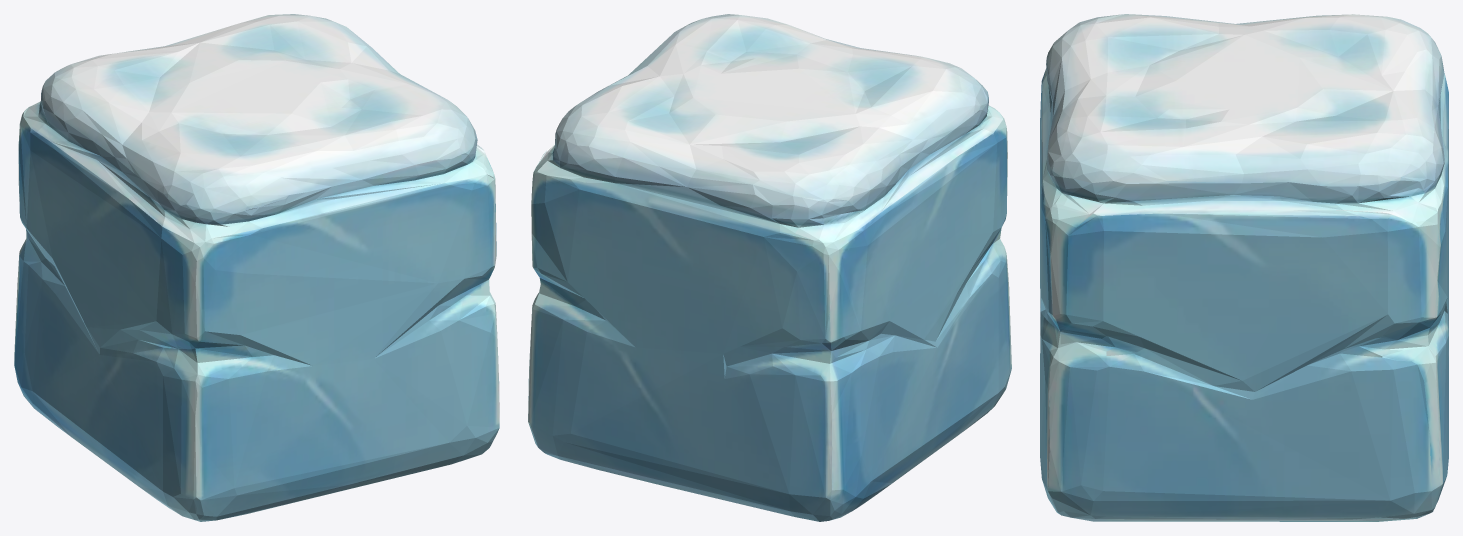
The model's file is wall_ice.glb.
3 renders of one model, left to right at view 1: azimuth 30°, elevation 25°; view 2: azimuth 150°, elevation 25°; view 3: azimuth 270°, elevation 25°, orthographic. The views are drawn at different scales.
Parts seen in each view (by area): view 1: tmp01mxtafw.ply; view 2: tmp01mxtafw.ply; view 3: tmp01mxtafw.ply.
Boxes of the visible parts, x1,y1,x2,y2 form: tmp01mxtafw.ply: (14, 14, 499, 521); tmp01mxtafw.ply: (528, 14, 1011, 521); tmp01mxtafw.ply: (1040, 14, 1448, 521).
Size of the model in its own units: 1.99 by 1.99 by 1.99.
1 material, 1 textured.
